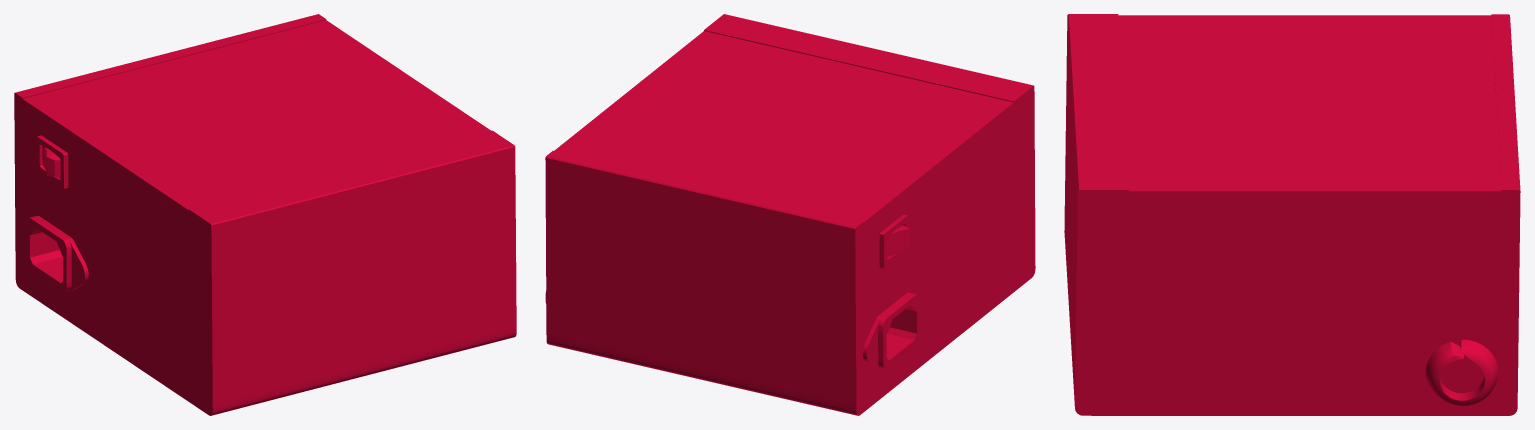
Rendered from powersupply.glb.
3 views of the same model, side by side, from view 1: azimuth 30°, elevation 25°; view 2: azimuth 150°, elevation 25°; view 3: azimuth 270°, elevation 25° (orthographic). The views are drawn at different scales.
Visible parts, largest first — view 1: powersupply; view 2: powersupply; view 3: powersupply.
Boxes of the visible parts, x1,y1,x2,y2 form: powersupply: (14,14,516,415); powersupply: (545,14,1035,415); powersupply: (1064,14,1520,415).
Size of the model in its own units: 1.92 by 1.08 by 1.94.
